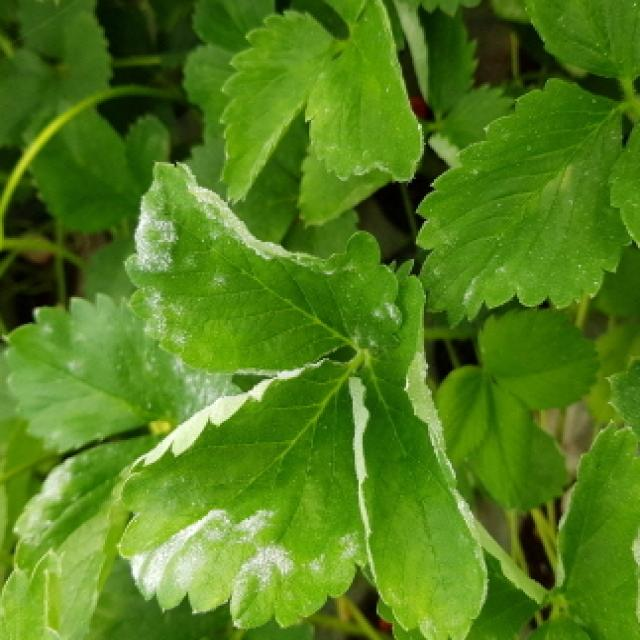Powdery Mildew Leaf: (114, 357, 368, 632), (121, 158, 405, 379), (348, 258, 489, 640), (0, 291, 235, 452), (12, 434, 164, 640), (553, 417, 640, 640)
